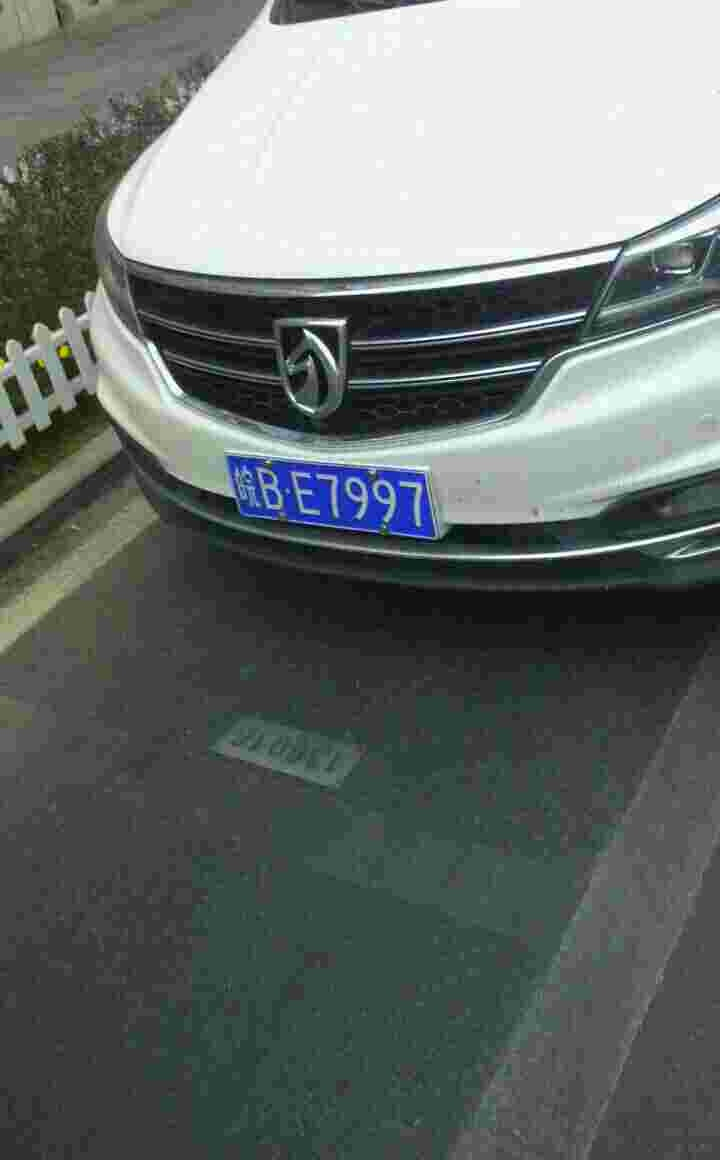license_plate: (228, 453, 442, 548)
